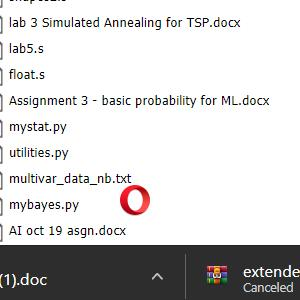opera: (120, 185, 150, 216)
